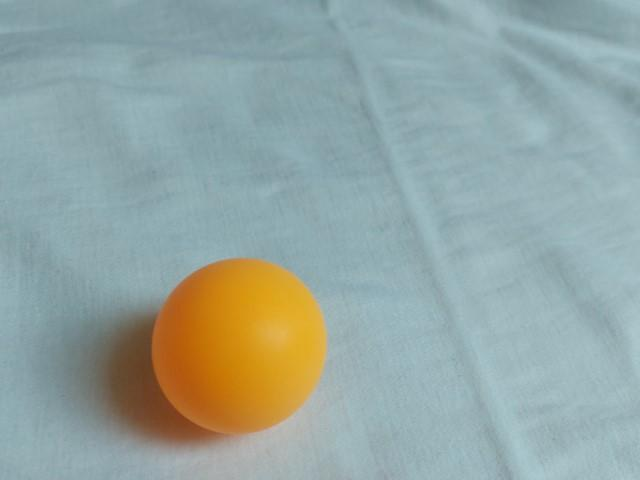oball: (145, 254, 337, 440)
